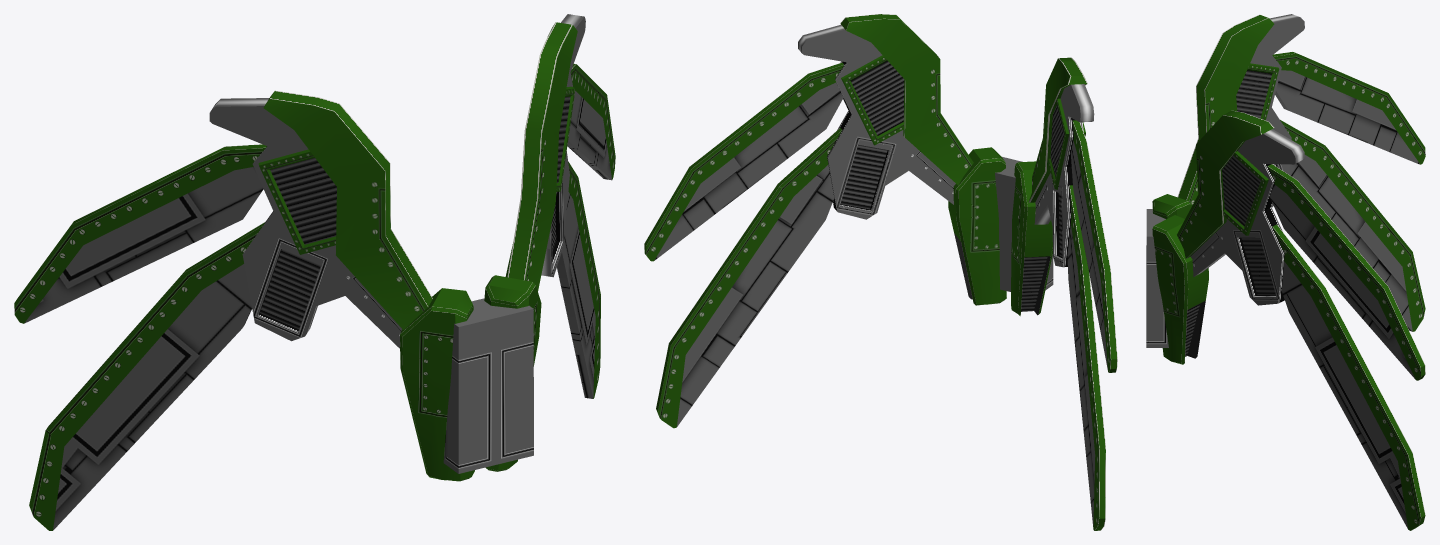
Rendered from TR_wingsB.fbx.
The picture shows the model from 3 angles, left to right: view 1: azimuth 30°, elevation 25°; view 2: azimuth 150°, elevation 25°; view 3: azimuth 270°, elevation 25°; orthographic projection. The views are drawn at different scales.
Parts seen in each view (by area): view 1: wingsB; view 2: wingsB; view 3: wingsB.
Boxes of the visible parts, x1,y1,x2,y2 form: wingsB: [14, 14, 615, 530]; wingsB: [644, 14, 1117, 530]; wingsB: [1146, 14, 1425, 530].
Bounding box in the file's own units: 129 × 97.8 × 68.67.
